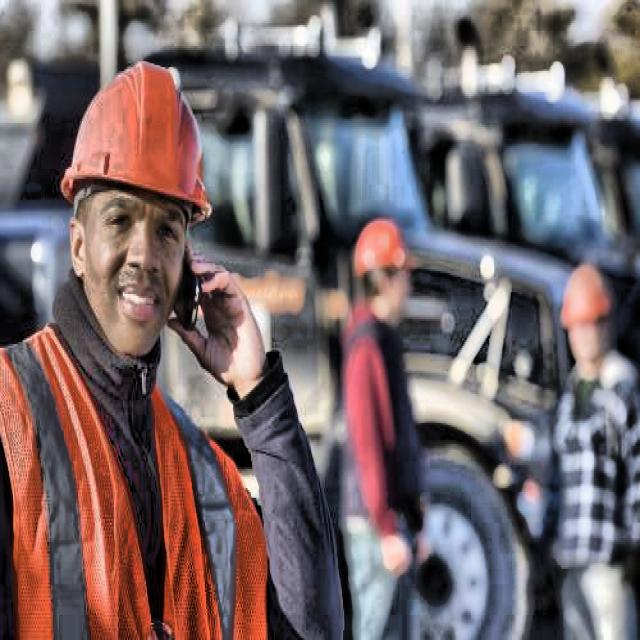helmet: (42, 44, 229, 369), (347, 211, 420, 325), (556, 258, 620, 367)
